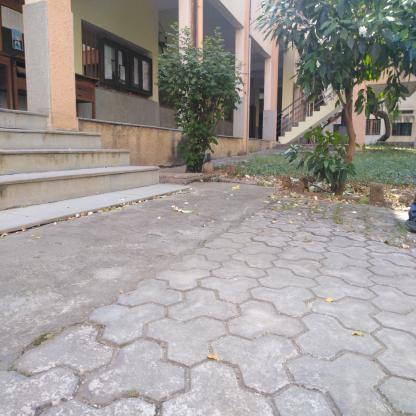stairs: (1, 112, 49, 217)
